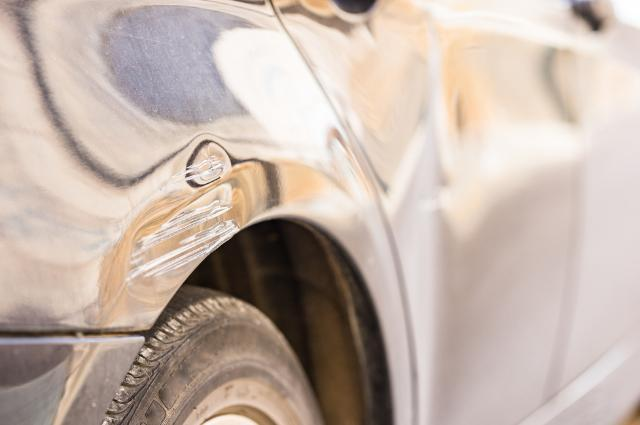Fender: (69, 120, 349, 344)
